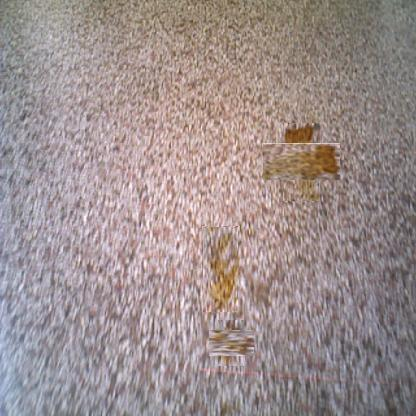liquid: (273, 133, 330, 191), (202, 226, 238, 312), (213, 325, 249, 361)
